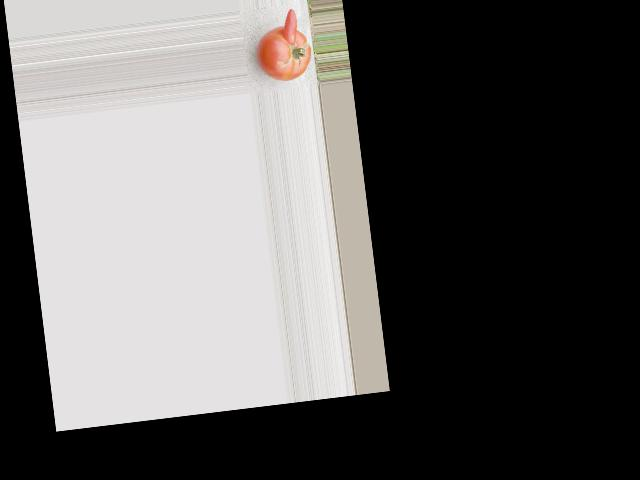tomato: (254, 23, 314, 84)
